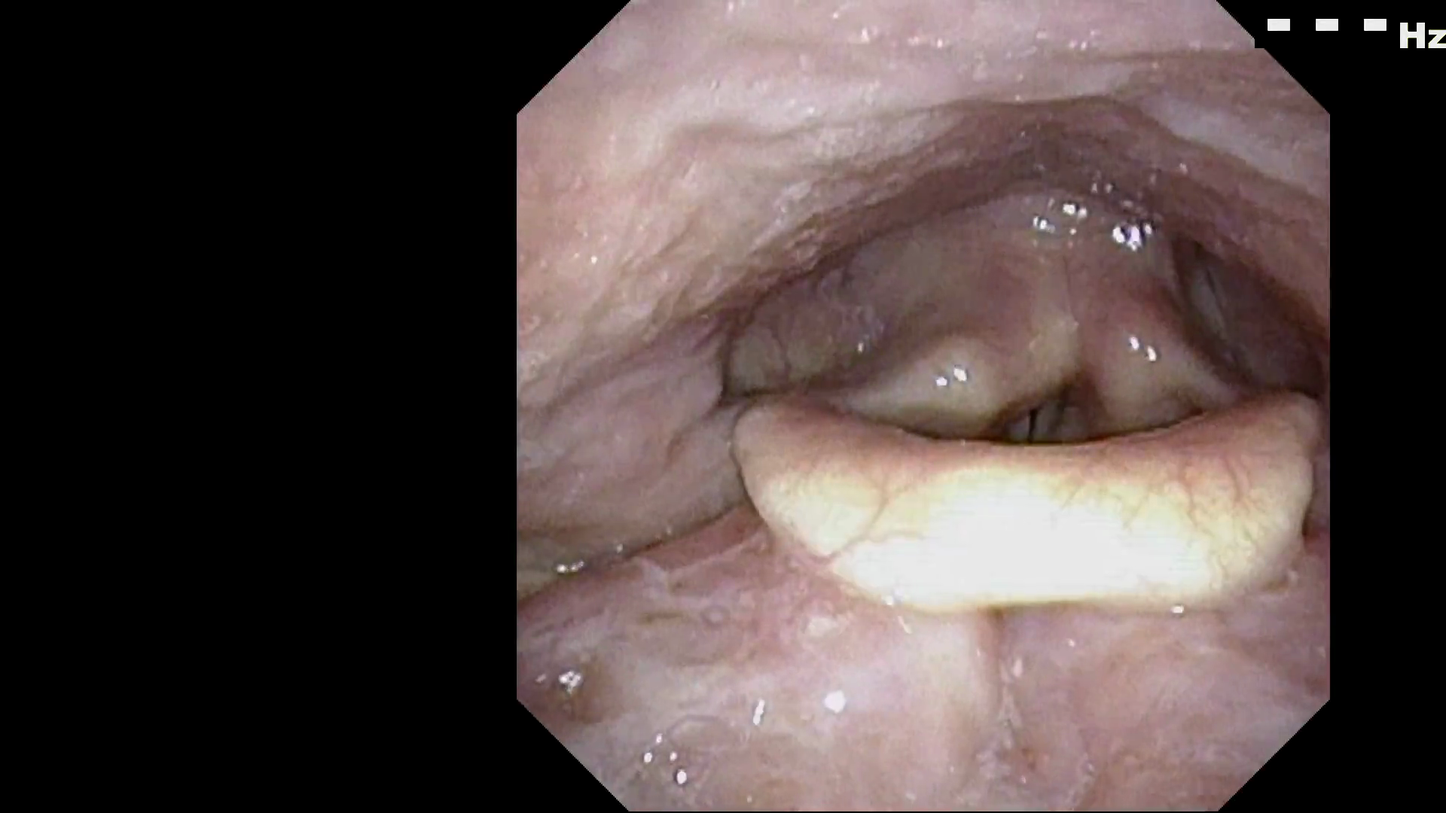epiglottis: (716, 368, 1316, 628)
trachea: (987, 363, 1082, 483)
